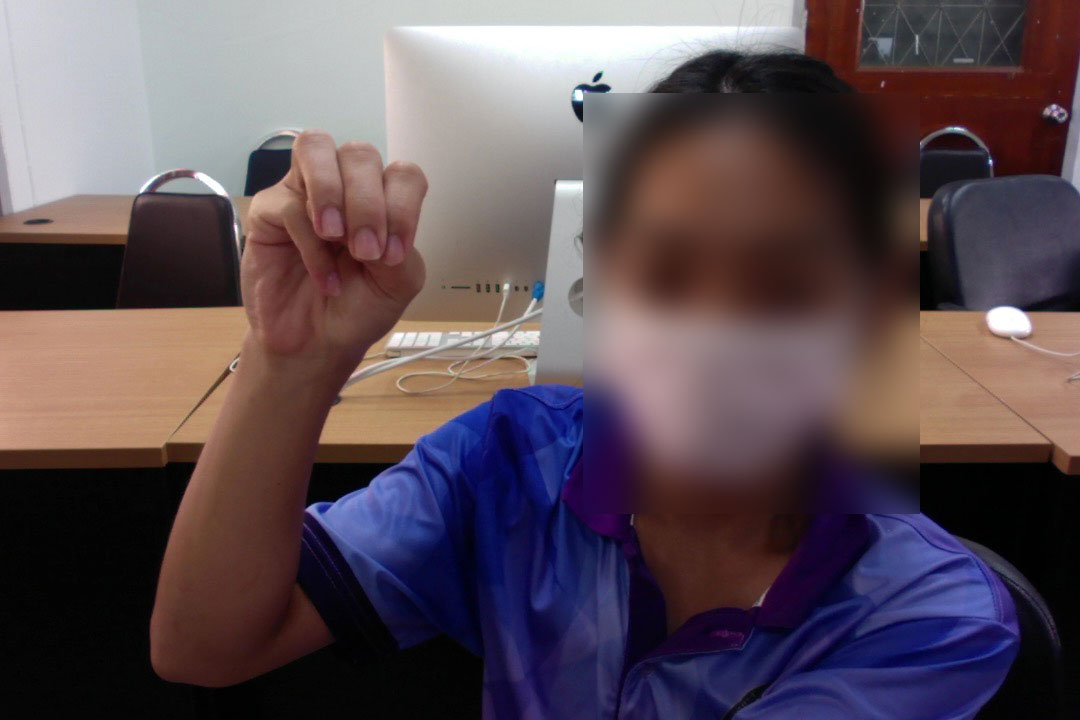mor: (241, 116, 429, 378)
